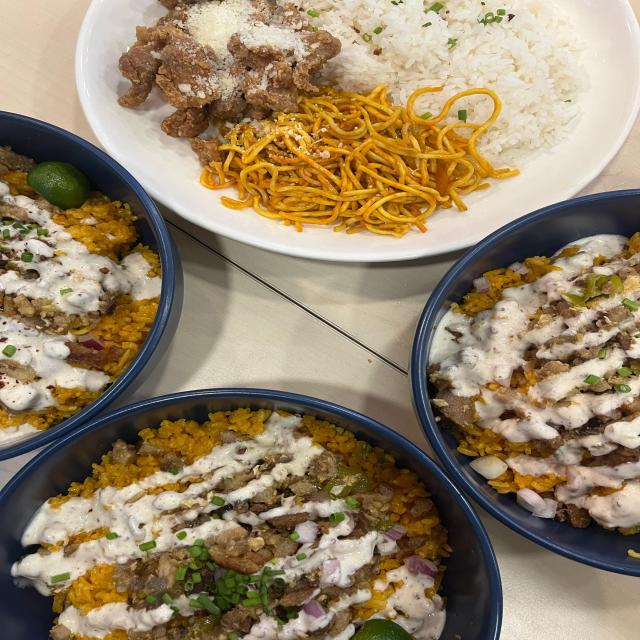Chicken -Chicken Inasal-: (333, 0, 596, 135)
